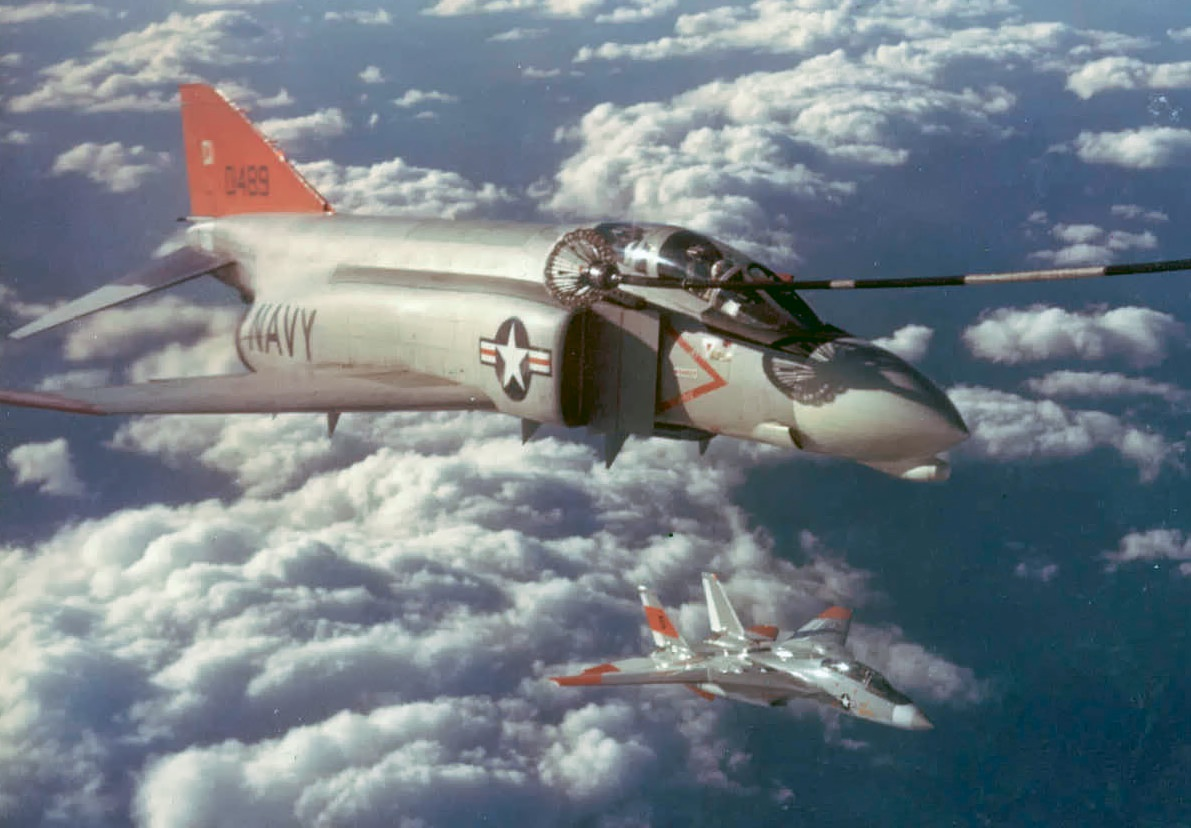F14: (546, 571, 937, 732)
F4: (1, 81, 972, 483)
